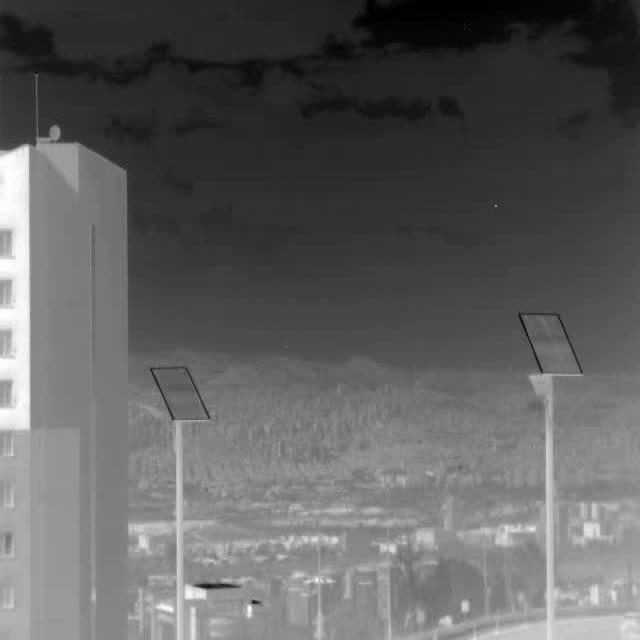Car: (618, 610, 640, 640)
